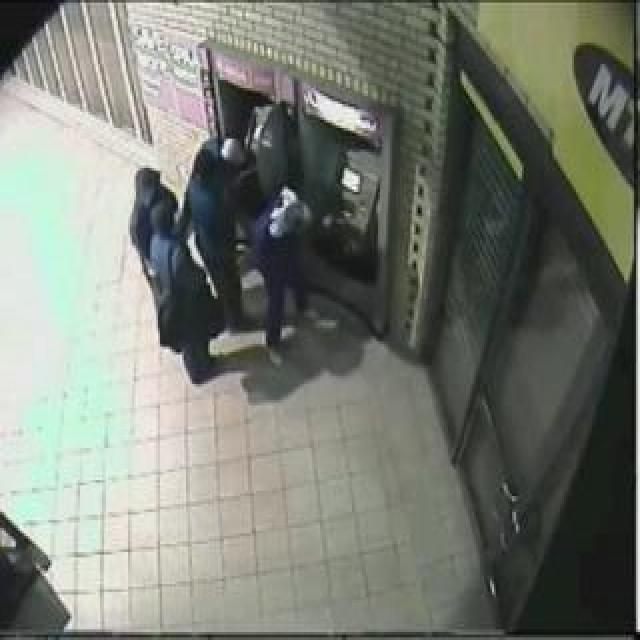thief: (88, 158, 323, 344)
